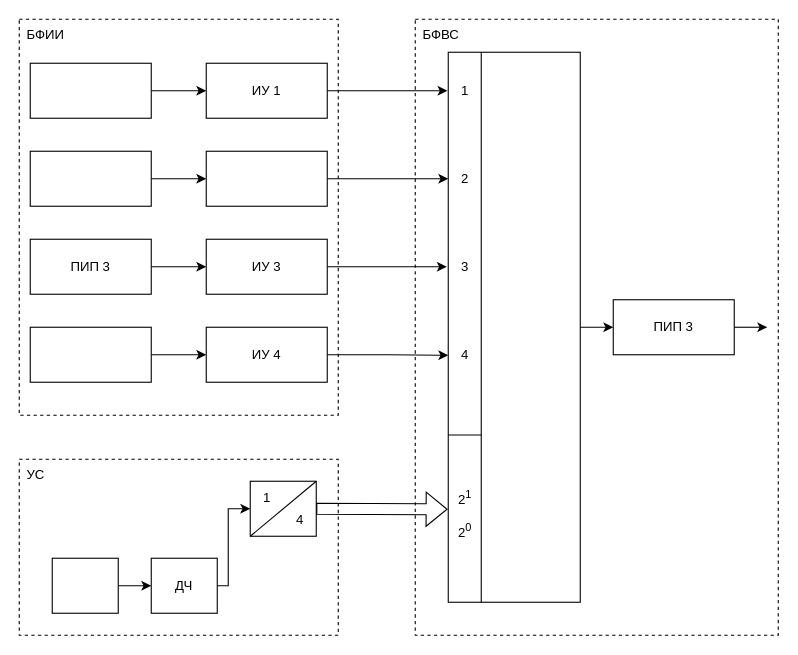
The diagram is 798 pixels wide and 655 high, and some of its shapes have lost their labels. The centre of each missing label's shape, as x and y in pixels:
ГЧ: point 84,585
ИУ 2: point 266,178
ПИП 1: point 90,90
ПИП 2: point 90,178
ПИП 4: point 90,354
